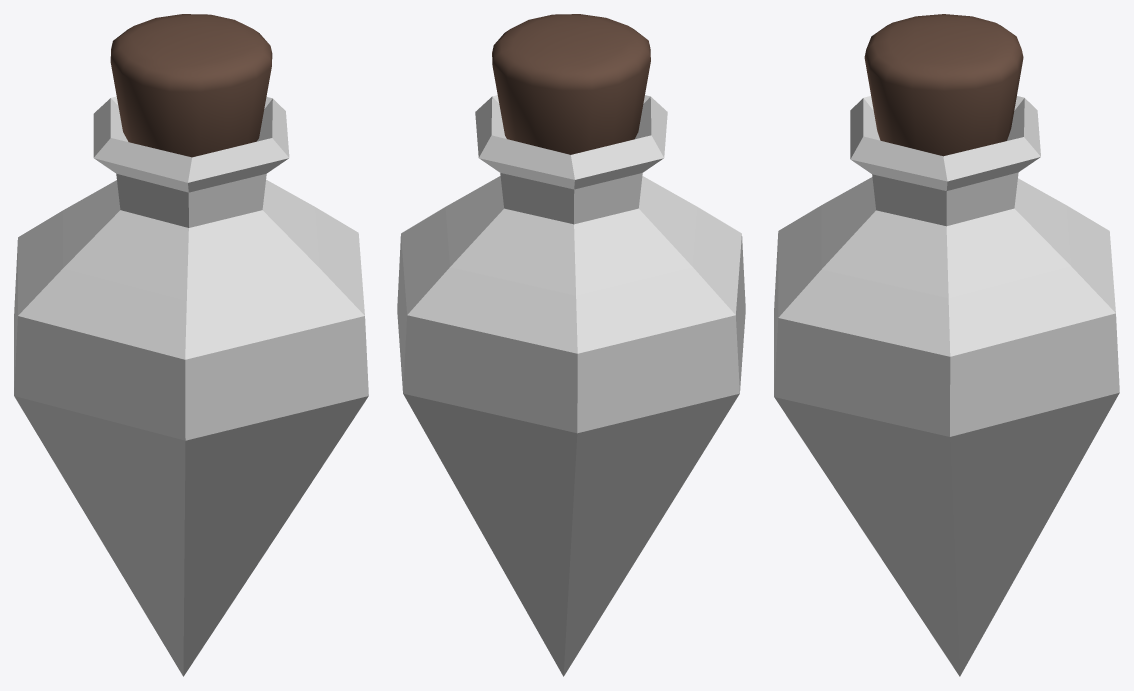
Rendered from Potion10 Empty.glb.
The picture shows the model from 3 angles, left to right: view 1: azimuth 30°, elevation 25°; view 2: azimuth 150°, elevation 25°; view 3: azimuth 270°, elevation 25°; orthographic projection.
Visible parts, largest first — view 1: Potion10_Empty; view 2: Potion10_Empty; view 3: Potion10_Empty.
Boxes of the visible parts, box(x1,y1,x2,y2) form: Potion10_Empty: box(14, 14, 368, 676); Potion10_Empty: box(397, 14, 745, 676); Potion10_Empty: box(774, 14, 1119, 676).
Bounding box in the file's own units: 0.1752 × 0.3097 × 0.1517.
